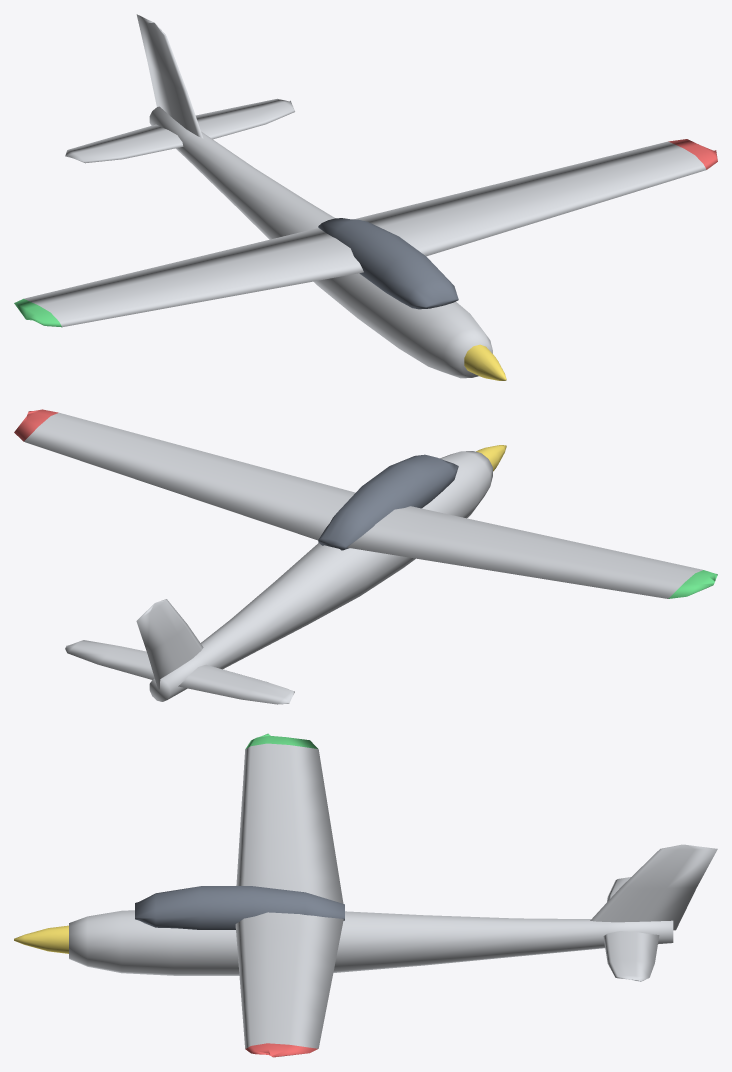
Rendered from uav-plane.glb.
3 views of the same model, one above another, from view 1: azimuth 30°, elevation 25°; view 2: azimuth 150°, elevation 25°; view 3: azimuth 270°, elevation 25° (orthographic). The views are drawn at different scales.
Parts seen in each view (by area): view 1: part2, part1, part4, part0, part3; view 2: part2, part1, part0, part3; view 3: part2, part1, part4, part3, part0.
Part boxes in pixels (bbox=[...]): part2: bbox=[24, 14, 706, 378]; part1: bbox=[318, 218, 458, 309]; part4: bbox=[464, 344, 506, 380]; part0: bbox=[14, 298, 61, 327]; part3: bbox=[668, 139, 717, 169]; part2: bbox=[24, 412, 702, 704]; part1: bbox=[318, 454, 458, 550]; part0: bbox=[668, 570, 717, 598]; part3: bbox=[14, 409, 58, 441]; part2: bbox=[69, 743, 717, 1048]; part1: bbox=[135, 886, 344, 929]; part4: bbox=[14, 925, 68, 953]; part3: bbox=[245, 1043, 317, 1057]; part0: bbox=[245, 733, 317, 748].
Size of the model in its own units: 1.27 by 0.2355 by 1.18.
